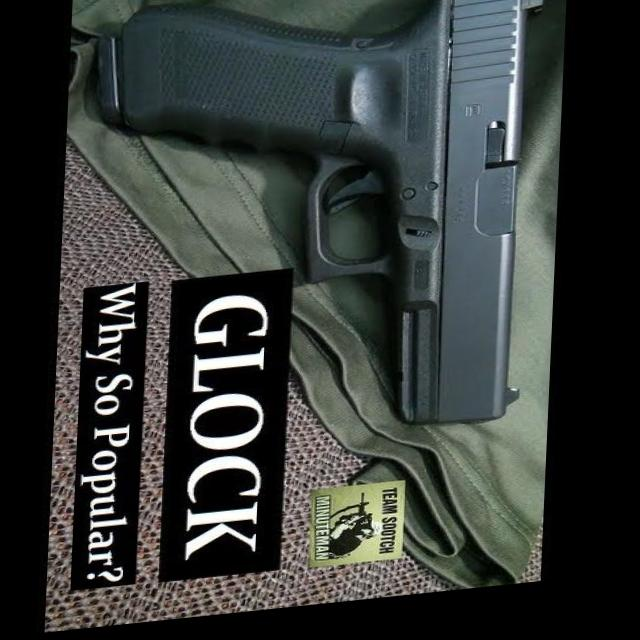handgun: (77, 0, 547, 483)
